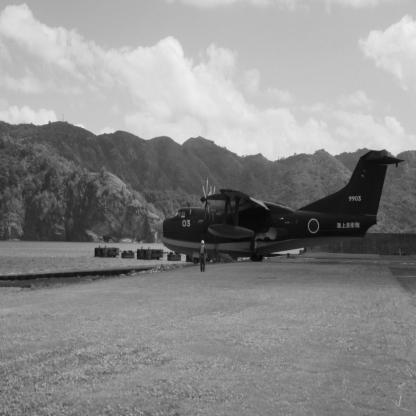US2: (155, 150, 407, 265)
